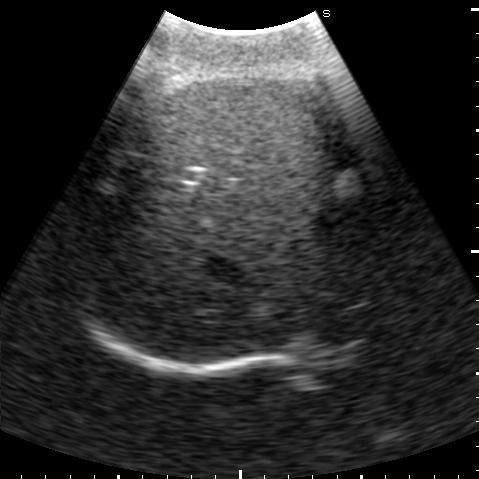S5: (125, 74, 357, 184)
S7: (76, 160, 174, 318)
S8: (136, 156, 403, 364)
Tumor: (335, 169, 361, 198)
